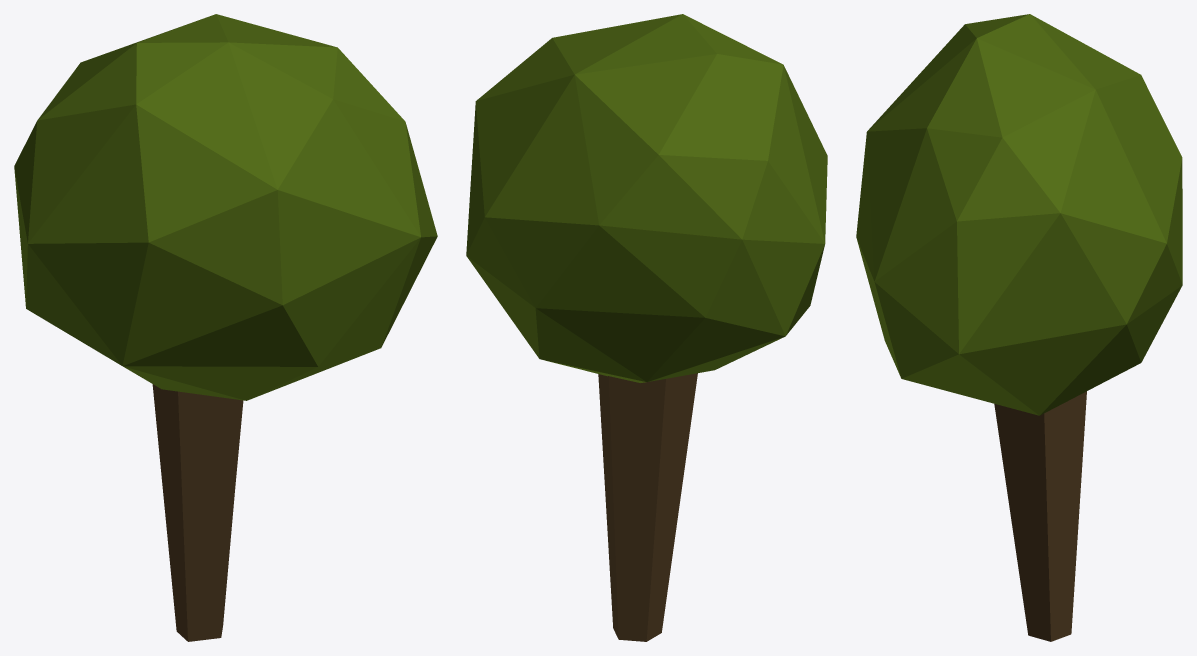
File: TreesAndBushes_030.fbx
3 views of the same model, side by side, from view 1: azimuth 30°, elevation 25°; view 2: azimuth 150°, elevation 25°; view 3: azimuth 270°, elevation 25° (orthographic). The views are drawn at different scales.
Visible parts, largest first — view 1: TreesAndBushes_030; view 2: TreesAndBushes_030; view 3: TreesAndBushes_030.
Part boxes in pixels (x1,y1,x2,y2): TreesAndBushes_030: (14, 14, 437, 641); TreesAndBushes_030: (466, 14, 827, 641); TreesAndBushes_030: (856, 14, 1182, 641).
Size of the model in its own units: 23.01 by 36.43 by 18.33.
